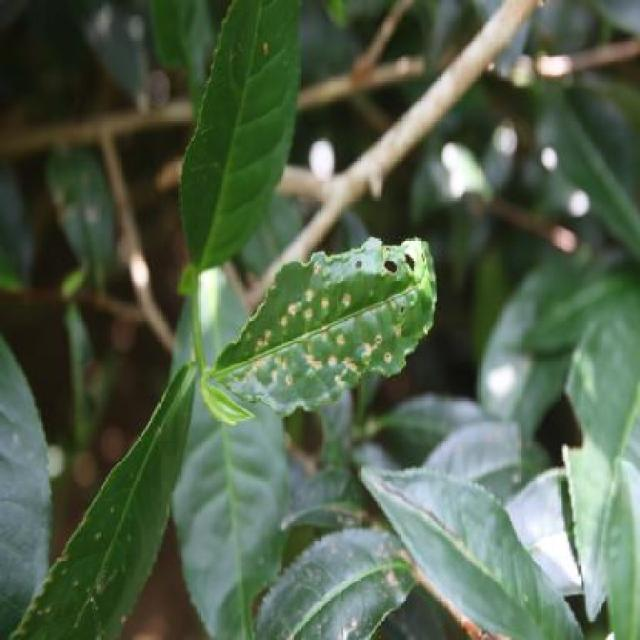Tea Mosquito bug infested leaf: (198, 240, 448, 415)
